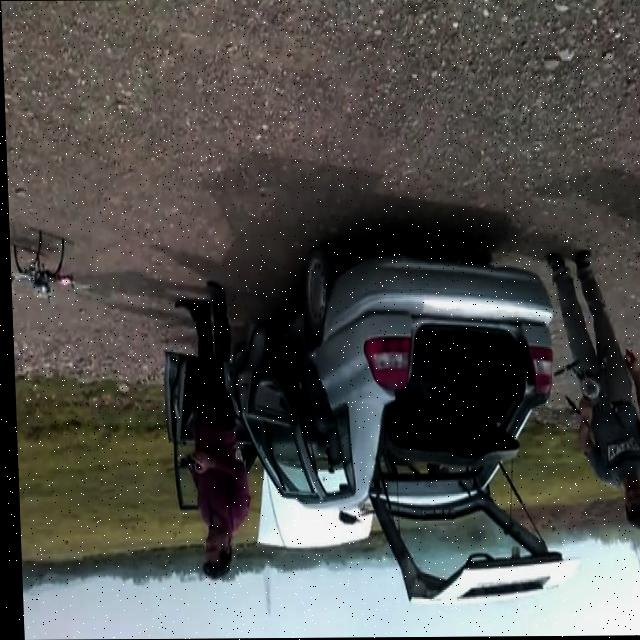drone: (9, 224, 75, 304)
